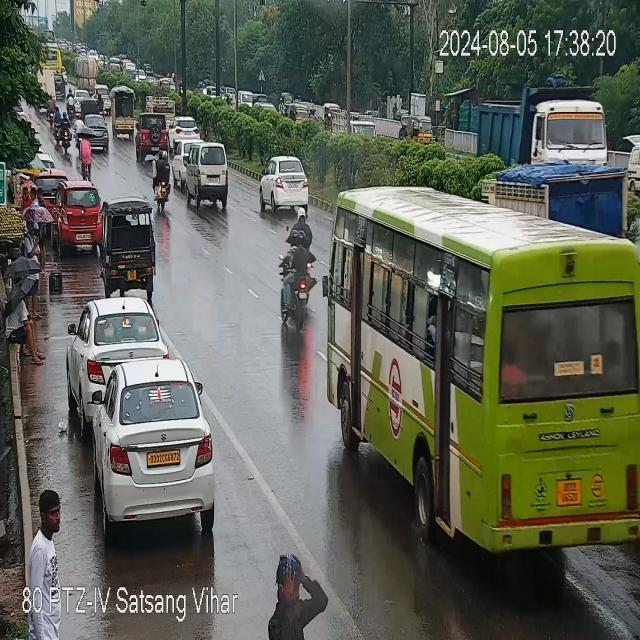2-wheelers: (275, 224, 317, 334), (282, 209, 316, 249), (152, 144, 172, 210), (57, 110, 73, 150), (66, 78, 76, 121)
auto: (103, 202, 158, 289), (112, 88, 142, 138), (398, 115, 442, 149)
bus: (322, 174, 638, 495)
car: (92, 361, 216, 528), (68, 295, 162, 409), (257, 149, 311, 216), (184, 144, 231, 210), (56, 185, 102, 251), (136, 113, 168, 164), (85, 113, 112, 158), (170, 117, 204, 144)
pedestrian: (19, 485, 68, 583), (3, 285, 48, 365), (18, 205, 48, 321)
